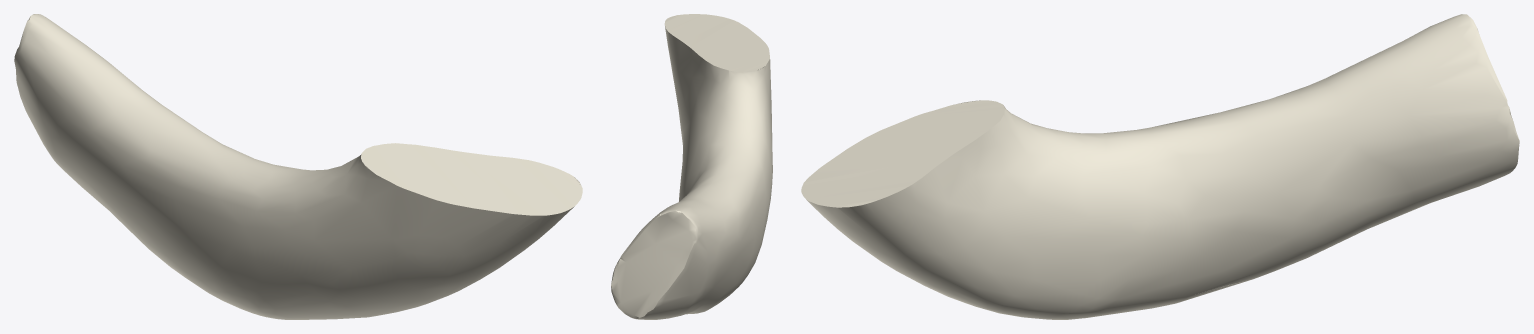
Rendered from fma8464_fj3667m.glb.
The picture shows the model from 3 angles, left to right: view 1: azimuth 30°, elevation 25°; view 2: azimuth 150°, elevation 25°; view 3: azimuth 270°, elevation 25°; orthographic projection. The views are drawn at different scales.
Visible parts, largest first — view 1: FMA8464_FJ3667M; view 2: FMA8464_FJ3667M; view 3: FMA8464_FJ3667M.
Boxes of the visible parts, left/top/right/bottom form: FMA8464_FJ3667M: left=14, top=14, right=582, bottom=319; FMA8464_FJ3667M: left=611, top=14, right=772, bottom=319; FMA8464_FJ3667M: left=801, top=14, right=1519, bottom=319.
Bounding box in the file's own units: 0.0366 × 0.0249 × 0.0674.
